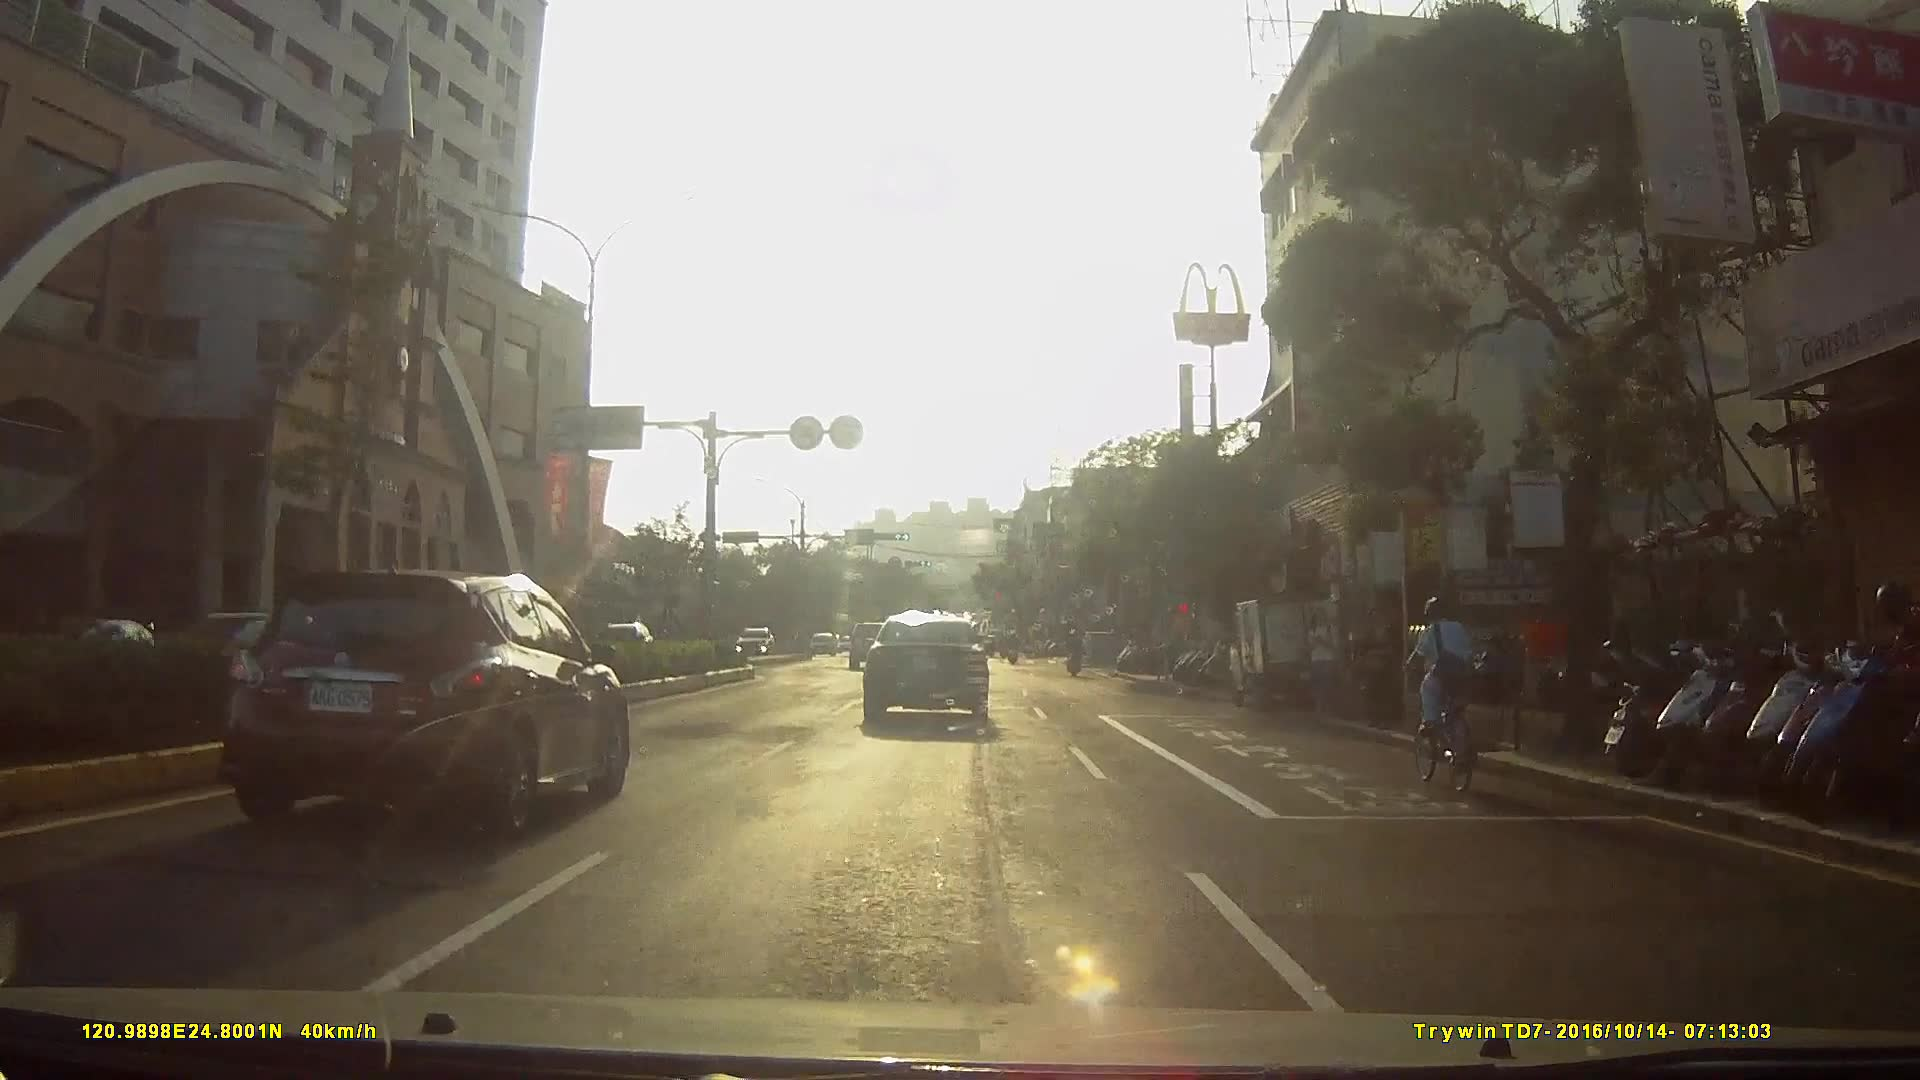pedestrian: (1303, 603, 1340, 720)
rider: (1394, 599, 1484, 800), (1065, 627, 1091, 683)
vehicle: (204, 563, 642, 835), (861, 610, 1007, 737), (1237, 592, 1373, 716), (845, 620, 904, 675), (729, 625, 778, 660), (802, 629, 833, 659)
